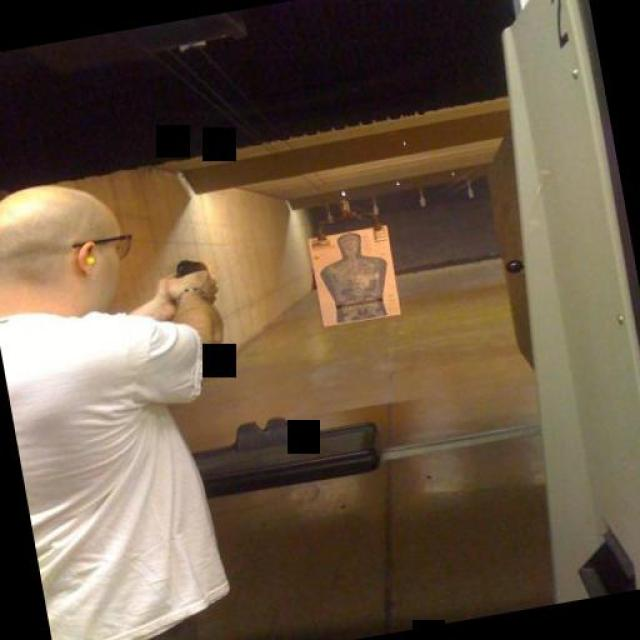gun: (171, 250, 214, 281)
